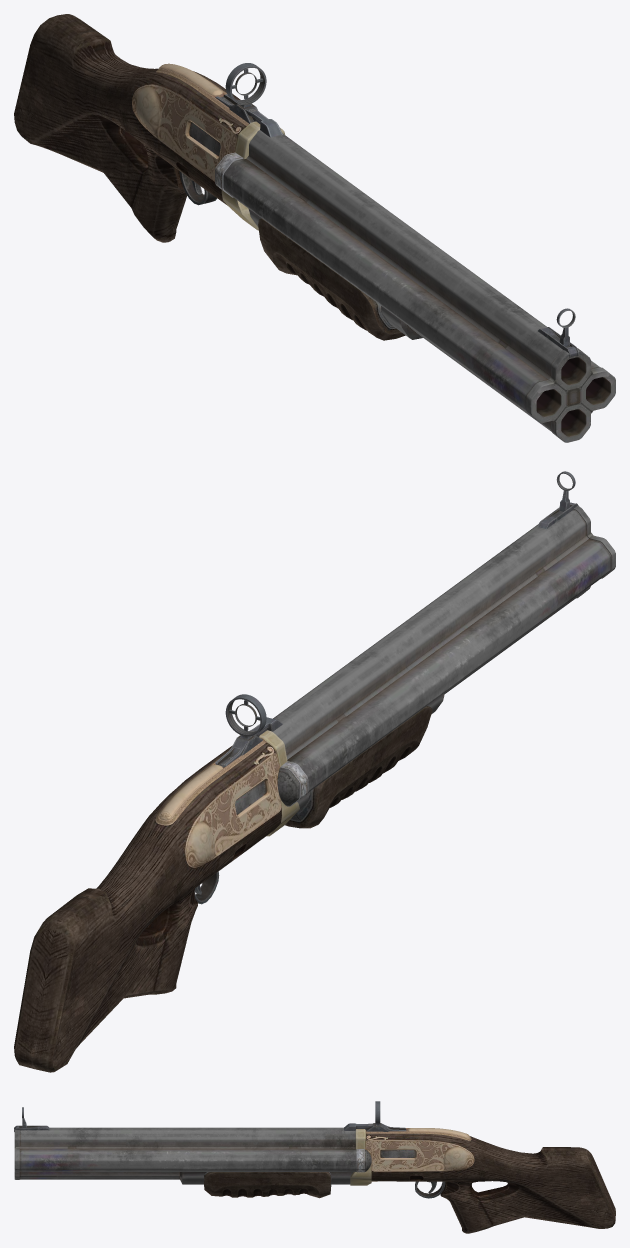
Rendered from Horseman.gltf.
3 renders of one model, top to bottom at view 1: azimuth 30°, elevation 25°; view 2: azimuth 150°, elevation 25°; view 3: azimuth 270°, elevation 25°, orthographic. The views are drawn at different scales.
Parts seen in each view (by area): view 1: mesh_2898690846-0_0_0_gbuffer, mesh_1031123559-0_0_0_gbuffer; view 2: mesh_2898690846-0_0_0_gbuffer, mesh_1031123559-0_0_0_gbuffer; view 3: mesh_2898690846-0_0_0_gbuffer, mesh_1031123559-0_0_0_gbuffer.
Boxes of the visible parts, <box> form: mesh_2898690846-0_0_0_gbuffer: <box>14,14,615,442</box>; mesh_1031123559-0_0_0_gbuffer: <box>215,63,578,357</box>; mesh_2898690846-0_0_0_gbuffer: <box>14,506,615,1072</box>; mesh_1031123559-0_0_0_gbuffer: <box>215,471,578,767</box>; mesh_2898690846-0_0_0_gbuffer: <box>14,1127,615,1233</box>; mesh_1031123559-0_0_0_gbuffer: <box>14,1101,406,1131</box>.
Bounding box in the file's own units: 16.77 × 43.76 × 183.
2 materials, 2 textured.
